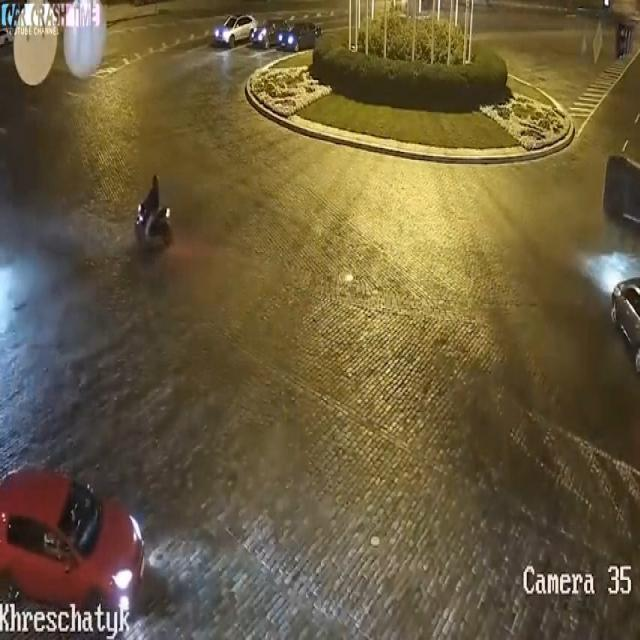Accident: (601, 98, 640, 276)
